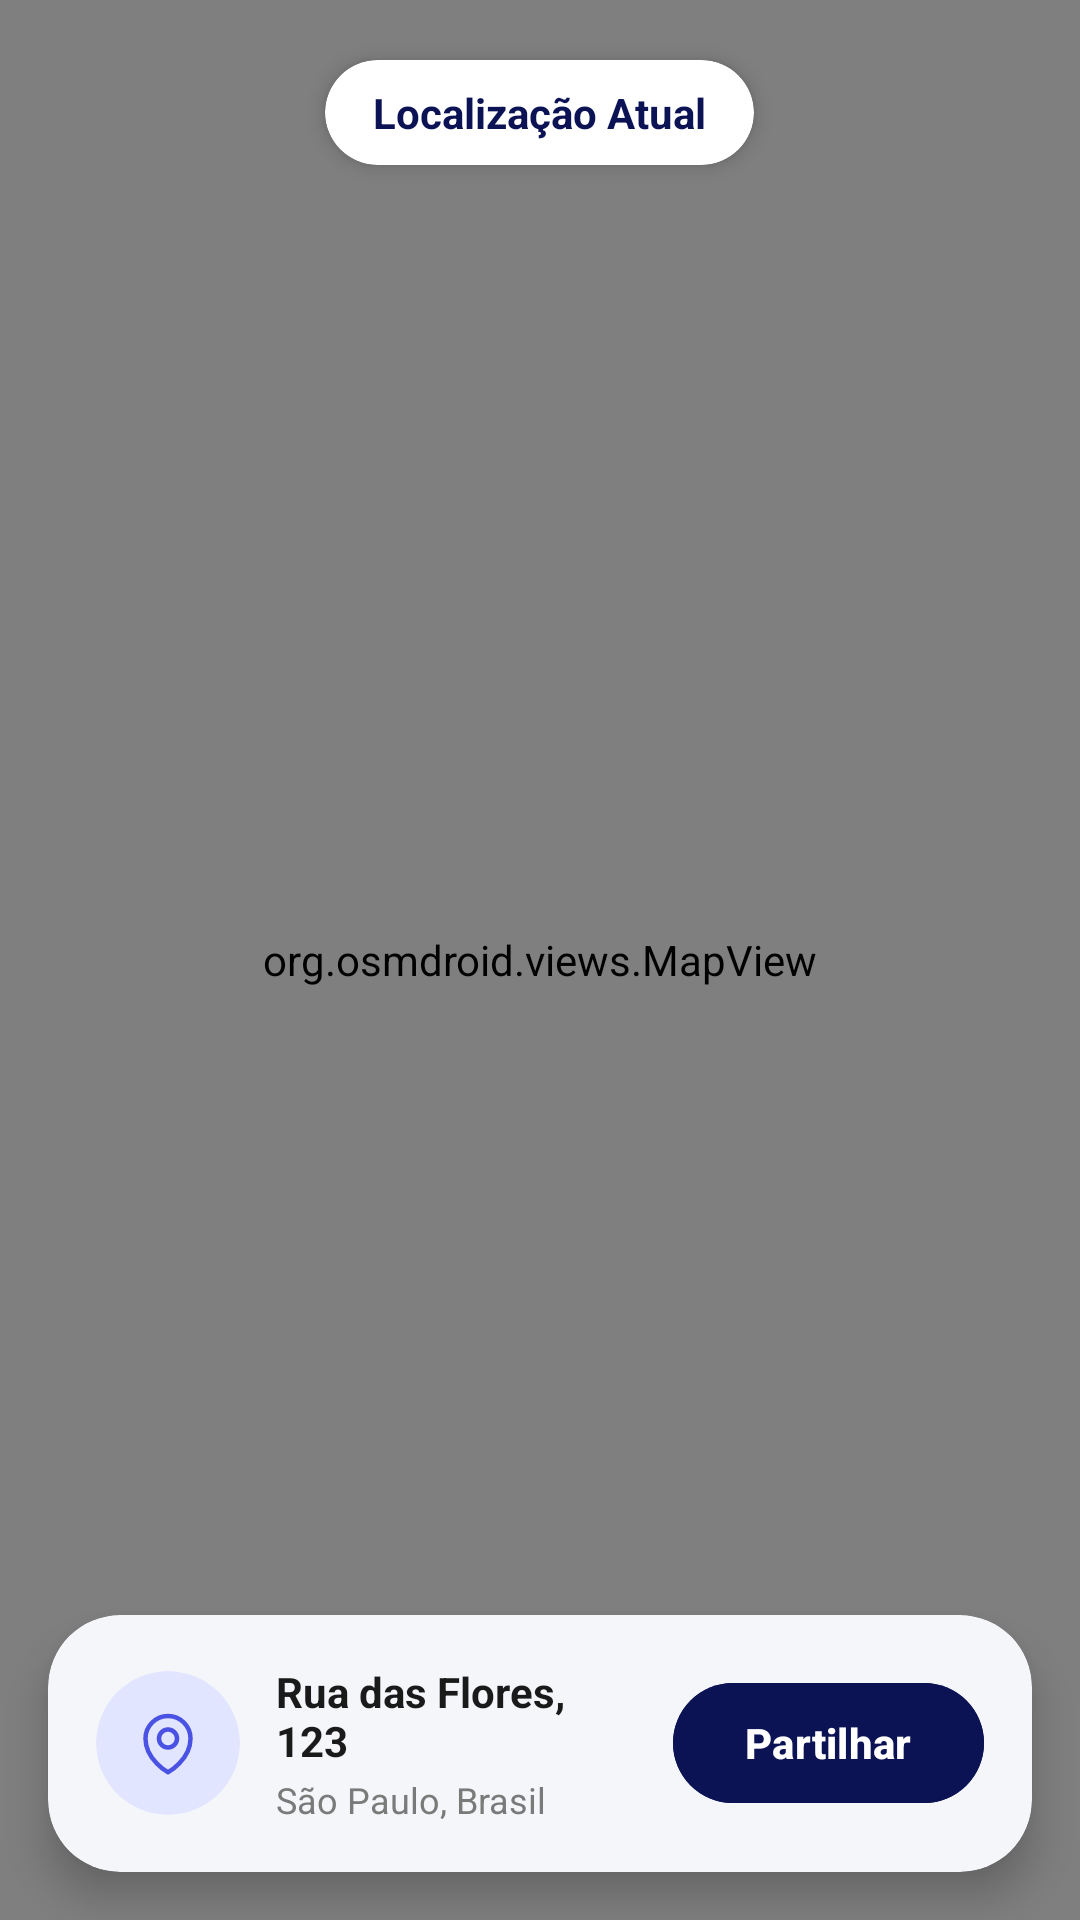

Icon click points for this 1080 x 1920 phone screenshot, format point (x, y):
pin: point (168, 1744)
